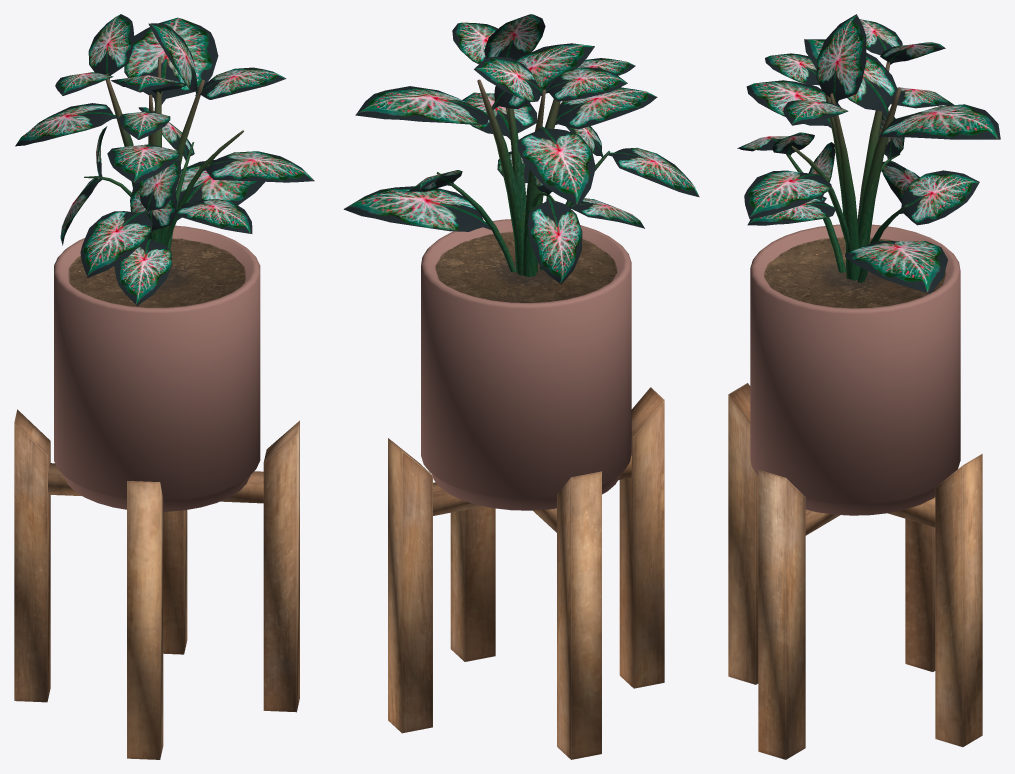
The model's file is plant.obj.
3 views of the same model, side by side, from view 1: azimuth 30°, elevation 25°; view 2: azimuth 150°, elevation 25°; view 3: azimuth 270°, elevation 25° (orthographic).
Visible parts, largest first — view 1: planter_low, base-wood_low, Plane.018, Plane.012, Plane.021, Plane.014, Plane.017, Plane.025, Plane.016, Plane.019, Plane.022, Plane.027 (+11 smaller); view 2: planter_low, base-wood_low, Plane.019, Plane.017, Plane.018, Plane.023, Plane.016, Plane.006, Plane.012, Plane.005, Plane.028, Plane.026 (+9 smaller); view 3: planter_low, base-wood_low, Plane.019, Plane.028, Plane.018, Plane.007, Plane.021, Plane.006, Plane.016, Plane.003, Plane.005, Plane.022 (+12 smaller).
Boxes of the visible parts, x1,y1,x2,y2 form: planter_low: (54,225,260,511); base-wood_low: (14,409,299,759); Plane.018: (124,17,218,104); Plane.012: (80,211,152,277); Plane.021: (201,151,314,182); Plane.014: (114,239,171,305); Plane.017: (15,103,118,146); Plane.025: (88,14,134,79); Plane.016: (107,144,179,183); Plane.019: (175,159,264,220); Plane.022: (175,199,252,233); Plane.027: (195,67,286,99); planter_low: (421,219,631,510); base-wood_low: (388,387,664,759); Plane.019: (343,186,490,231); Plane.017: (517,126,595,205); Plane.018: (355,86,493,124); Plane.023: (527,196,582,284); Plane.016: (555,87,657,129); Plane.006: (491,43,594,109); Plane.012: (607,147,699,197); Plane.005: (477,79,524,275); Plane.028: (484,14,545,60); Plane.026: (545,67,627,101); planter_low: (750,224,960,515); base-wood_low: (728,383,982,759); Plane.019: (845,240,947,293); Plane.028: (816,14,866,105); Plane.018: (878,104,1000,139); Plane.007: (900,170,979,225); Plane.021: (744,170,831,219); Plane.006: (804,39,897,116); Plane.016: (746,80,840,128); Plane.003: (830,93,859,280); Plane.005: (858,87,901,277); Plane.022: (747,198,836,225).
Size of the model in its own units: 27.25 by 67.07 by 24.09.
